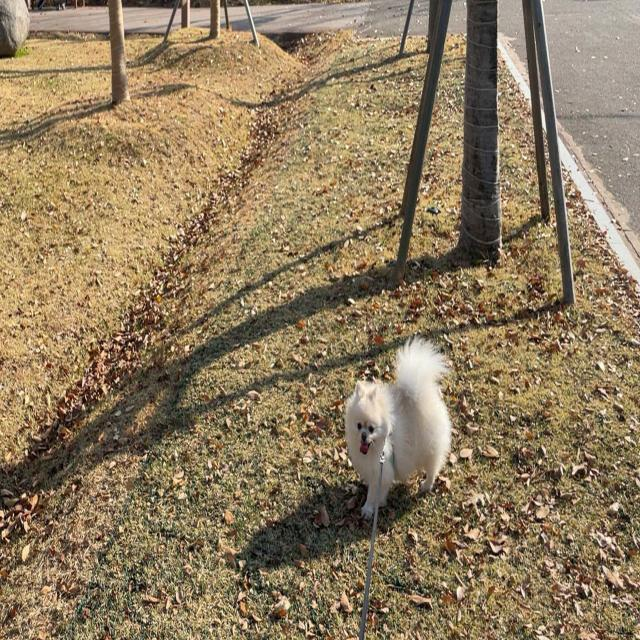Dog: (343, 333, 453, 519)
